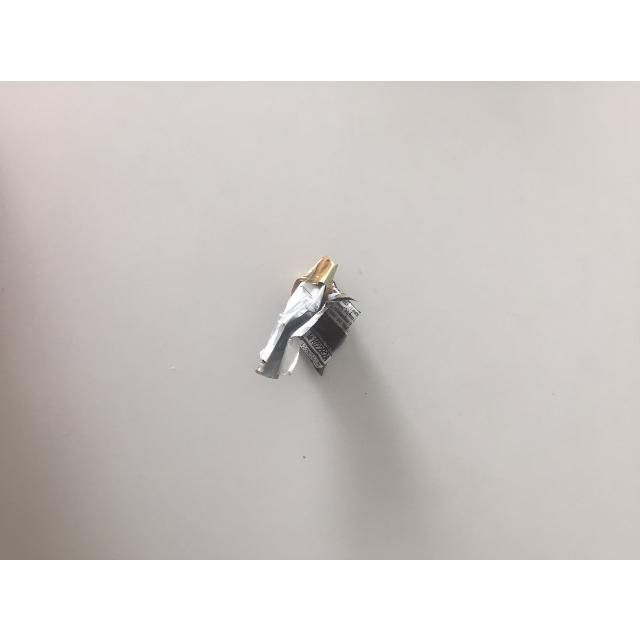Paquete de plastico: (256, 256, 365, 377)
